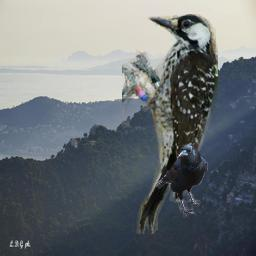Crow: (151, 141, 208, 218)
Woodpecker: (122, 14, 218, 234)
